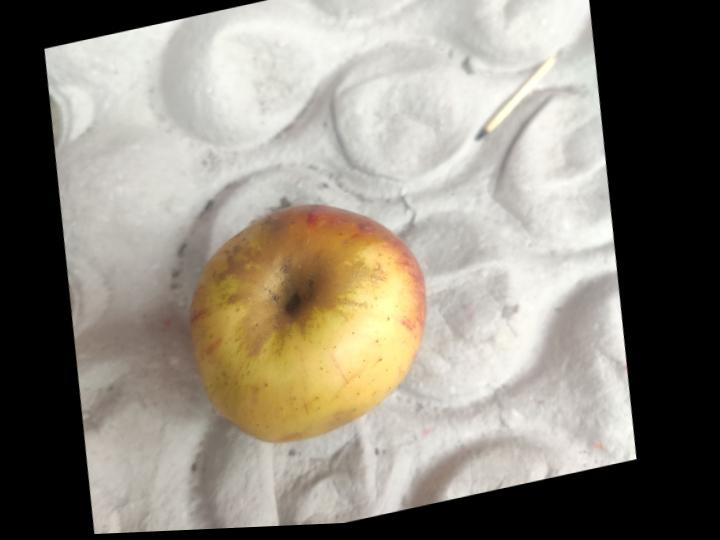apple: (190, 205, 425, 443)
bruise_discoloration: (210, 214, 386, 364)
